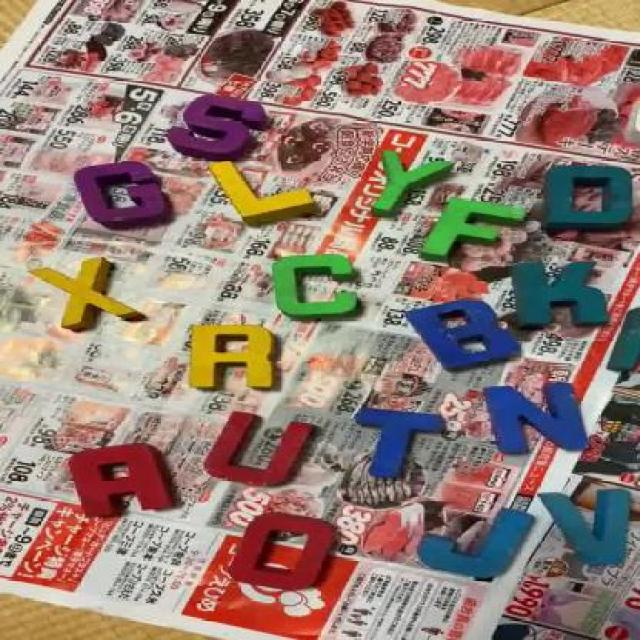A: (68, 441, 172, 513)
B: (405, 301, 518, 368)
C: (277, 252, 366, 318)
D: (540, 166, 632, 232)
F: (422, 200, 530, 262)
G: (76, 162, 176, 228)
J: (421, 506, 542, 577)
K: (520, 260, 606, 328)
L: (209, 162, 320, 222)
N: (482, 380, 583, 454)
O: (229, 512, 337, 588)
R: (187, 324, 288, 391)
S: (173, 96, 267, 158)
T: (348, 405, 448, 478)
U: (202, 412, 320, 483)
V: (541, 484, 640, 563)
X: (39, 260, 144, 328)
Y: (368, 152, 450, 211)
